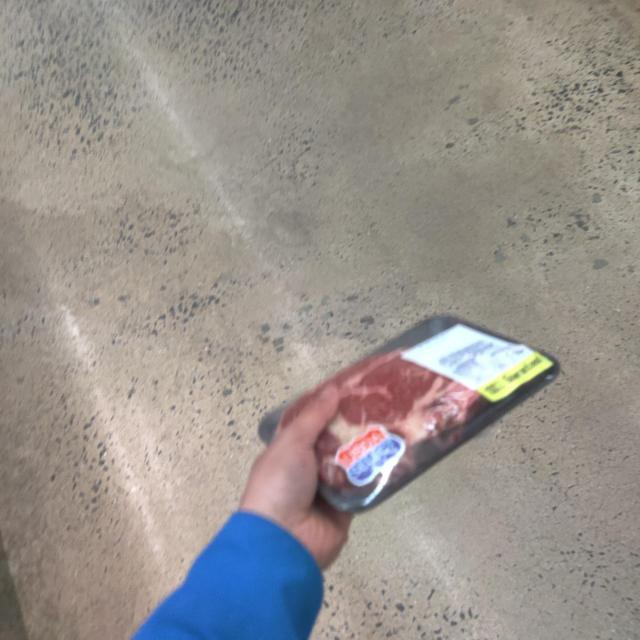Meat: (255, 316, 559, 514)
